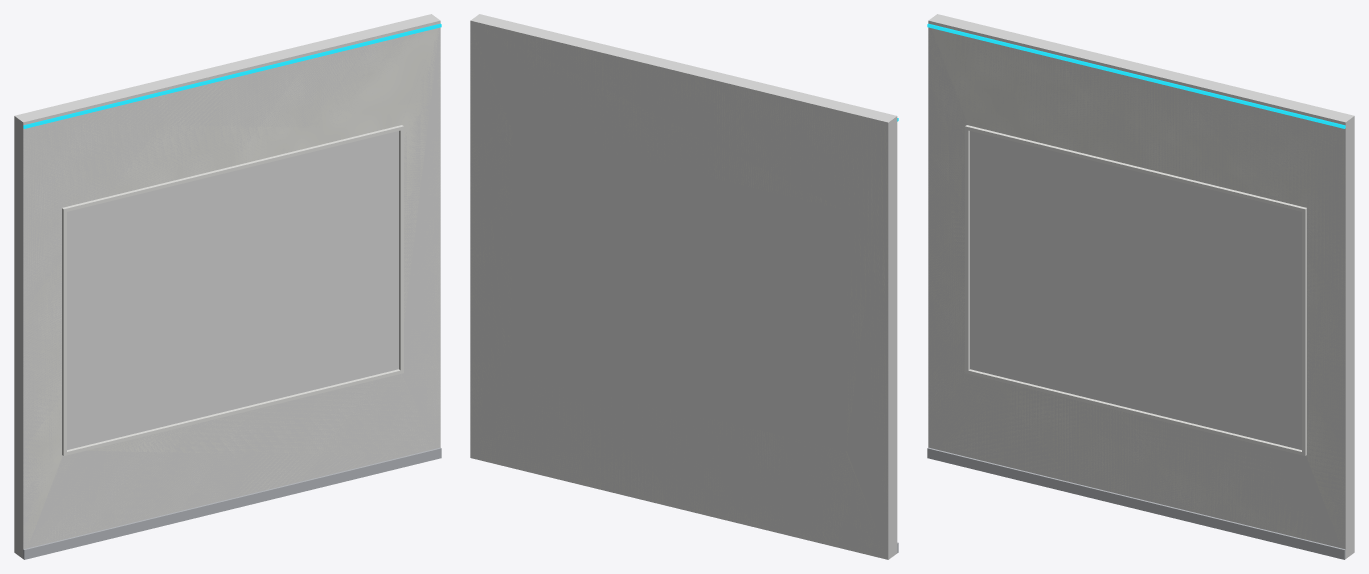
The model's file is Arch_Wall_Window_4m.gltf.
3 renders of one model, left to right at view 1: azimuth 30°, elevation 25°; view 2: azimuth 150°, elevation 25°; view 3: azimuth 330°, elevation 25°, orthographic.
Parts seen in each view (by area): view 1: Arch_Wall_Window_4m_COL, Arch_Wall_Window_4m; view 2: Arch_Wall_Window_4m_COL, Arch_Wall_Window_4m; view 3: Arch_Wall_Window_4m_COL, Arch_Wall_Window_4m.
Boxes of the visible parts, left/top/right/bottom form: Arch_Wall_Window_4m_COL: left=14, top=14, right=440, bottom=558; Arch_Wall_Window_4m: left=23, top=21, right=441, bottom=559; Arch_Wall_Window_4m_COL: left=470, top=14, right=897, bottom=559; Arch_Wall_Window_4m: left=470, top=21, right=898, bottom=558; Arch_Wall_Window_4m_COL: left=928, top=14, right=1354, bottom=558; Arch_Wall_Window_4m: left=927, top=21, right=1345, bottom=559.
Size of the model in its own units: 4 by 4 by 0.181.
6 materials, 1 textured.
